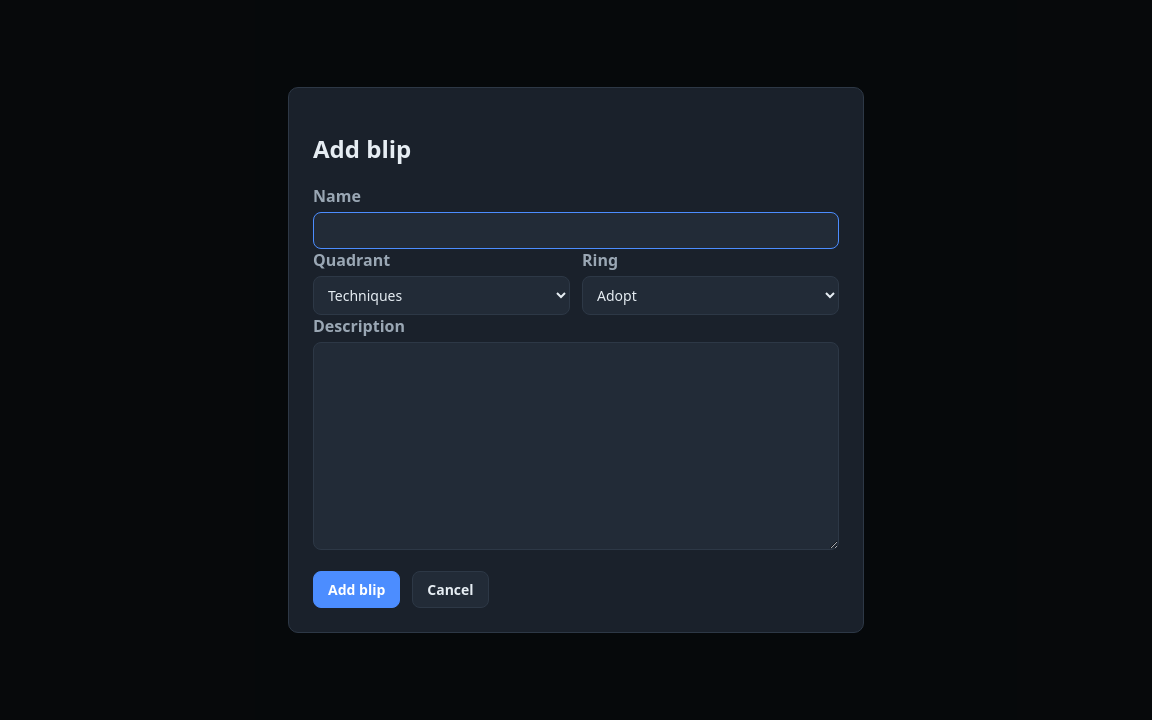
Test: AddBlipDrawer › blocks submission with a blank name and makes no request
Click the button "Add blip": (357, 589) [313, 571, 400, 608]
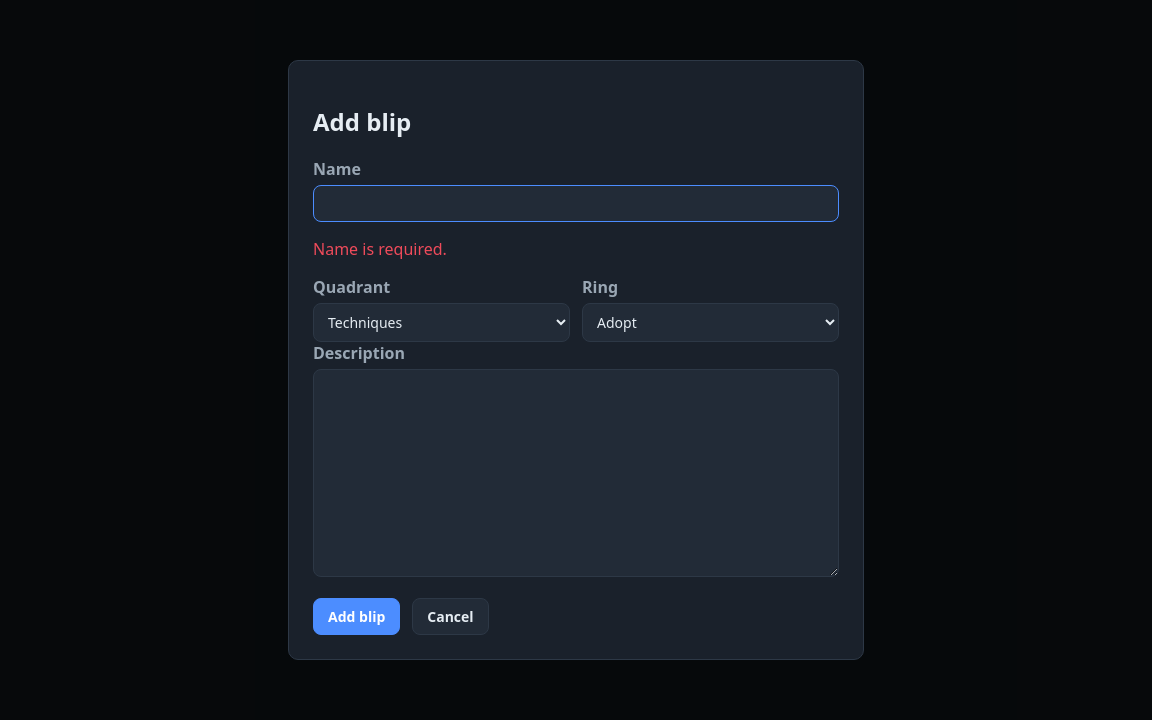
Expected: the message reads "Name is required.", [313, 238, 447, 260]
